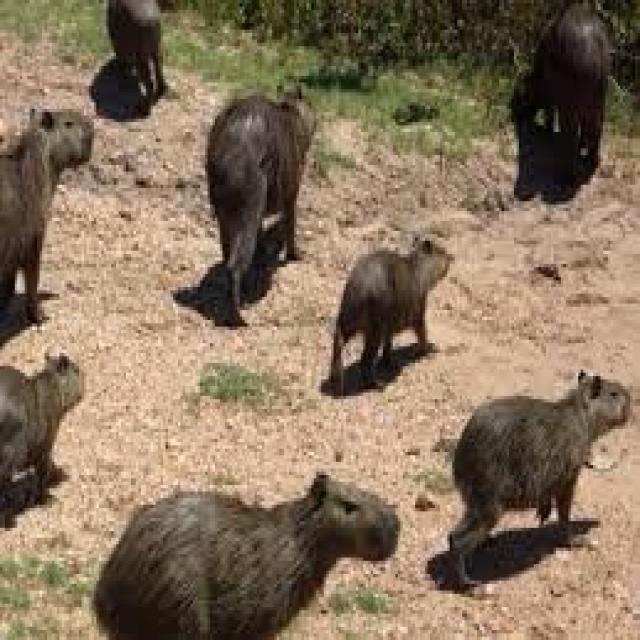capy: (92, 472, 400, 640), (448, 368, 632, 589), (205, 84, 317, 324), (0, 104, 97, 316), (330, 234, 450, 394), (513, 5, 609, 177), (0, 345, 84, 506)
